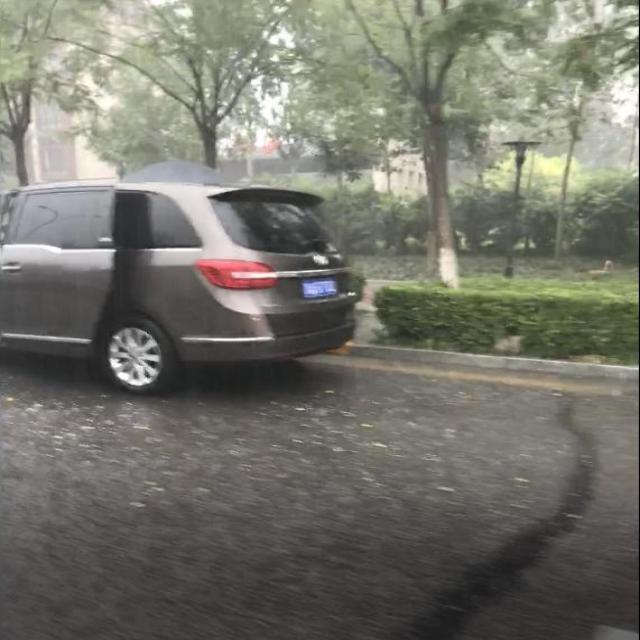car: (0, 176, 355, 385)
